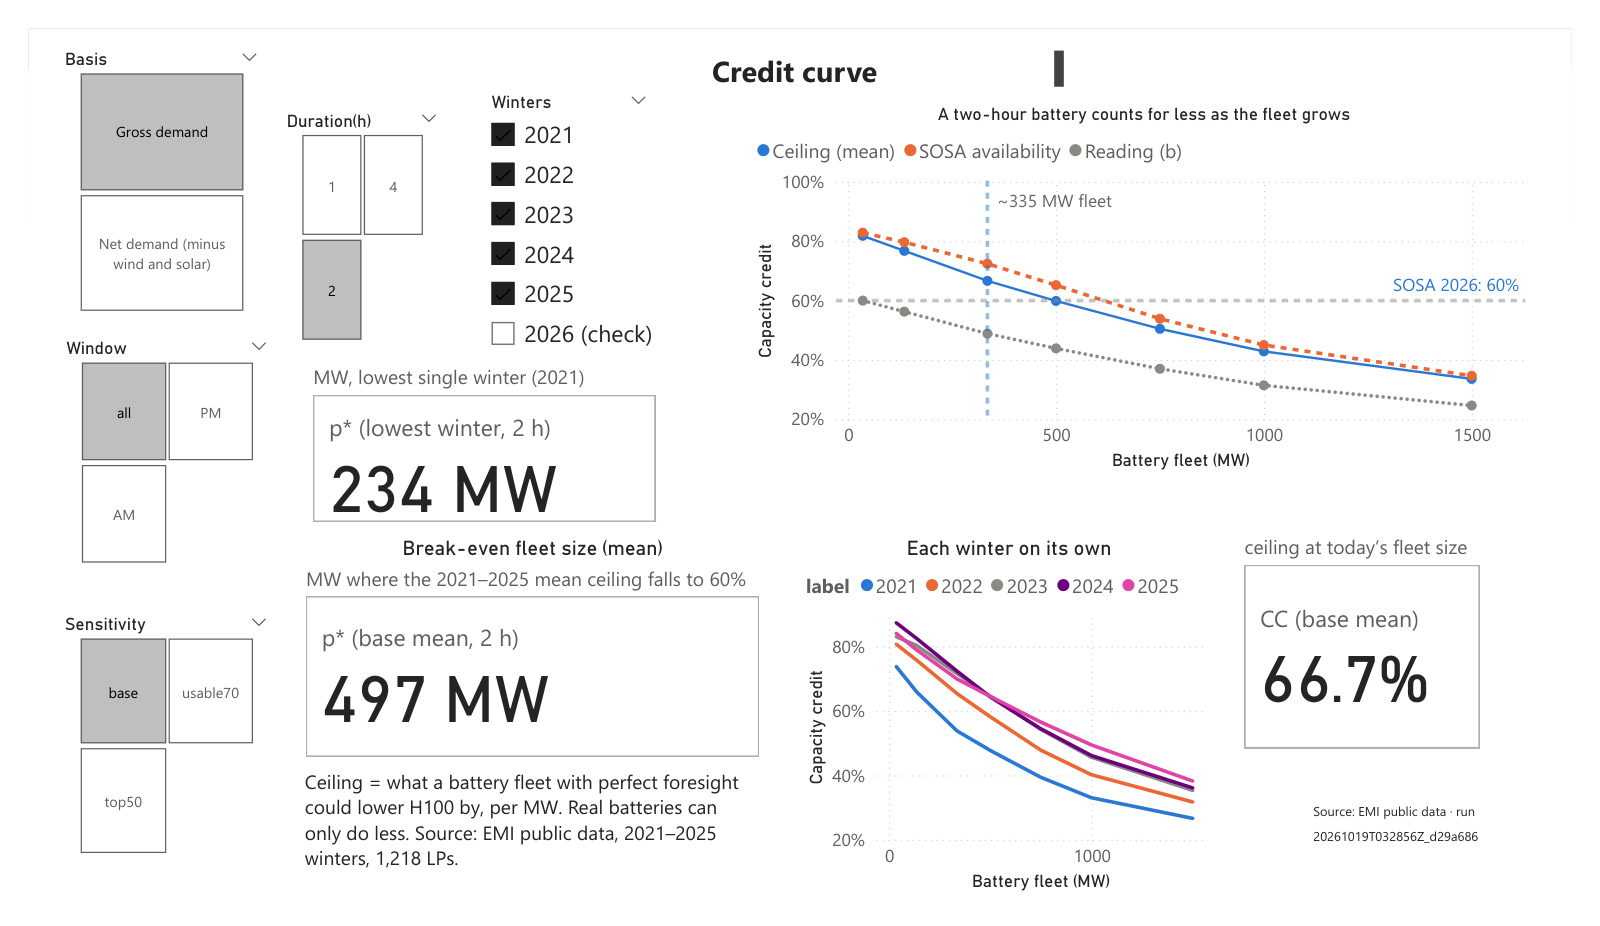

The page's visual inventory and layout, read from the dashboard file:
{"tool":"powerbi","page":{"name":"Credit curve","canvas":[1280,720],"ordinal":0},"visuals":[{"type":"slicer","fields":{"Values":["Dim_Basis.basis_label"]},"box":[16.5,12.4,185.1,228.5],"z":0},{"type":"slicer","fields":{"Values":["credit_table.d_h"]},"box":[201.3,63.2,149.8,201.3],"z":1000},{"type":"slicer","fields":{"Values":["credit_table.window"]},"box":[17.6,252.3,192.3,197.5],"z":2000},{"type":"slicer","fields":{"Values":["credit_table.sensitivity"]},"box":[16.5,480.8,193.3,209.9],"z":3000},{"type":"slicer","fields":{"Values":["dim_winter.label"]},"box":[370.6,47.7,154.7,232.5],"z":4000},{"type":"lineChart","title":"A two-hour battery counts for less as the fleet grows","fields":{"Category":["dim_p.p_mw"],"Y":["_Measures.CC (base mean)","_Measures.SOSA availability score","_Measures.Reading (b): scaled 60%"]},"box":[598.2,63.2,654.6,307.4],"z":5000},{"type":"lineChart","title":"Each winter on its own","fields":{"Category":["dim_p.p_mw"],"Y":["_Measures.CC"],"Series":["dim_winter.label"]},"box":[640,421.2,347.2,298.6],"z":6000},{"type":"cardVisual","title":"Break-even fleet size (mean)","fields":{"Data":["_Measures.p* (base mean, 2 h)"]},"box":[224.7,421.2,386.1,187.7],"z":7000},{"type":"cardVisual","fields":{"Data":["_Measures.p* (lowest winter, 2 h)"]},"box":[231.5,273.3,293.7,141],"z":8000},{"type":"cardVisual","fields":{"Data":["_Measures.CC (base mean)"]},"box":[1003.8,414.3,205.2,187.7],"z":9000},{"type":"textbox","box":[223.7,608.9,387.1,94.3],"z":10000},{"type":"textbox","box":[1061.2,631.2,162.4,72],"z":11000},{"type":"textbox","box":[415.3,12.6,448.4,41.8],"z":11001}]}

Visuals, with their boxes in screenshot pixels (x1, y1, x2, y2), scaled from the page's 1280x720 canvas onto the 1600x926 screenshot:
slicer - Dim_Basis.basis_label: crop(21, 16, 252, 310)
slicer - credit_table.d_h: crop(252, 81, 439, 340)
slicer - credit_table.window: crop(22, 324, 262, 578)
slicer - credit_table.sensitivity: crop(21, 618, 262, 888)
slicer - dim_winter.label: crop(463, 61, 657, 360)
"A two-hour battery counts for less as the fleet grows" lineChart: crop(748, 81, 1566, 477)
"Each winter on its own" lineChart: crop(800, 542, 1234, 925)
"Break-even fleet size (mean)" cardVisual: crop(281, 542, 764, 783)
cardVisual - _Measures.p* (lowest winter, 2 h): crop(289, 351, 656, 533)
cardVisual - _Measures.CC (base mean): crop(1255, 533, 1511, 774)
textbox: crop(280, 783, 764, 904)
textbox: crop(1326, 812, 1530, 904)
textbox: crop(519, 16, 1080, 70)
